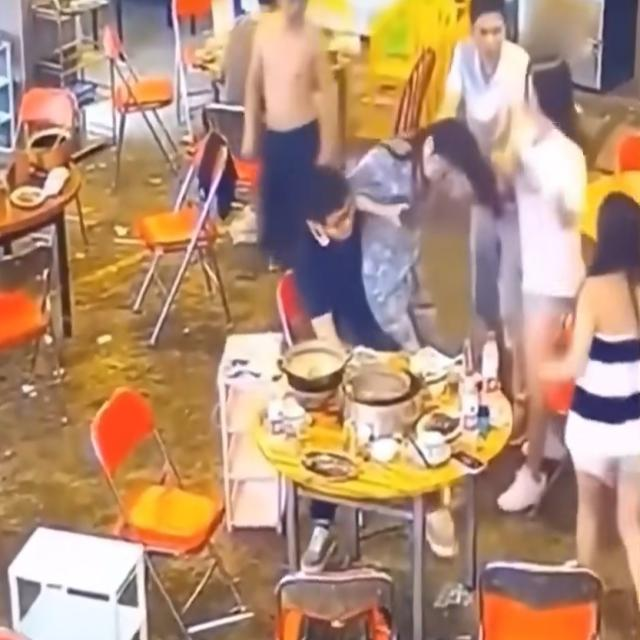fight: (364, 56, 599, 264)
nofight: (554, 192, 640, 593), (234, 1, 344, 250)
